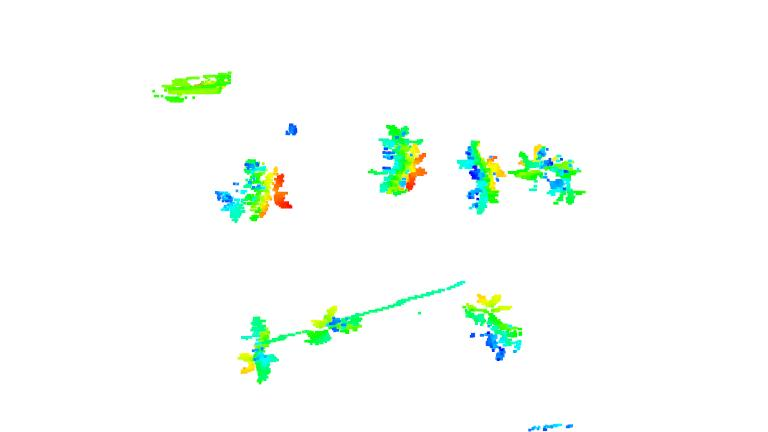chickpea: (214, 158, 291, 223), (514, 143, 587, 209), (367, 119, 426, 197), (462, 292, 525, 364), (456, 139, 504, 217), (234, 316, 281, 388), (305, 304, 365, 348)
